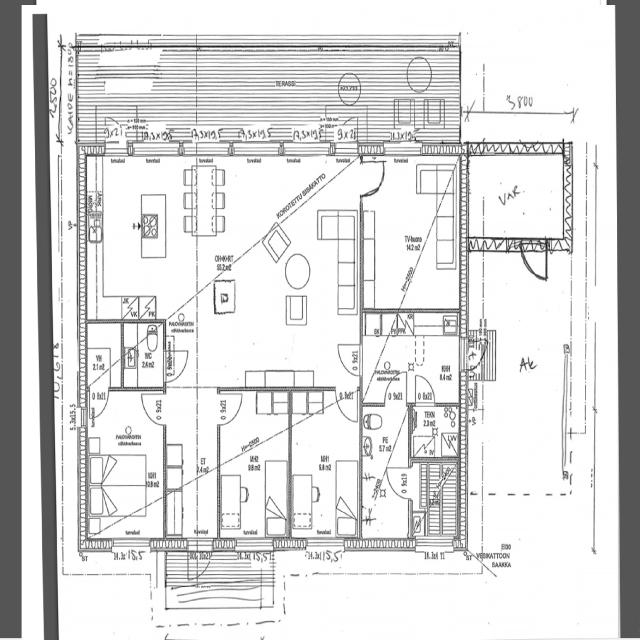door: (360, 416, 412, 518), (520, 237, 549, 283), (334, 338, 365, 378), (360, 155, 386, 200), (333, 115, 360, 156), (217, 386, 244, 426), (139, 386, 166, 426), (334, 386, 361, 424), (165, 346, 192, 384), (384, 465, 412, 499), (87, 385, 111, 421), (382, 371, 408, 404), (104, 117, 128, 152), (413, 372, 437, 404), (194, 540, 212, 579)
window: (238, 567, 266, 611), (232, 138, 282, 161), (284, 137, 330, 162), (303, 533, 346, 555), (131, 140, 178, 160), (383, 137, 421, 160), (234, 534, 274, 554), (414, 537, 456, 553), (111, 534, 152, 550)
zone: (85, 152, 194, 319), (361, 156, 458, 310), (228, 151, 362, 233), (218, 389, 291, 536), (289, 388, 360, 536), (86, 388, 166, 516), (465, 153, 567, 240), (359, 398, 410, 520), (411, 311, 462, 404), (121, 319, 166, 390), (410, 401, 461, 457), (83, 321, 123, 390)
